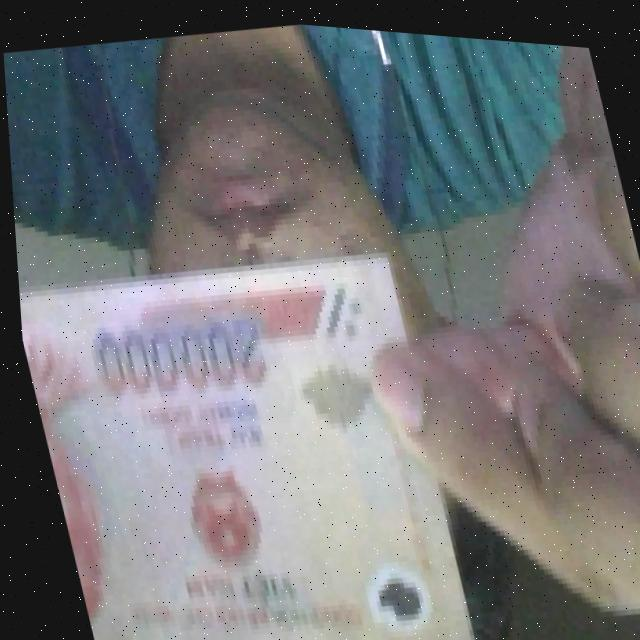200 000 VND: (11, 214, 482, 640)
